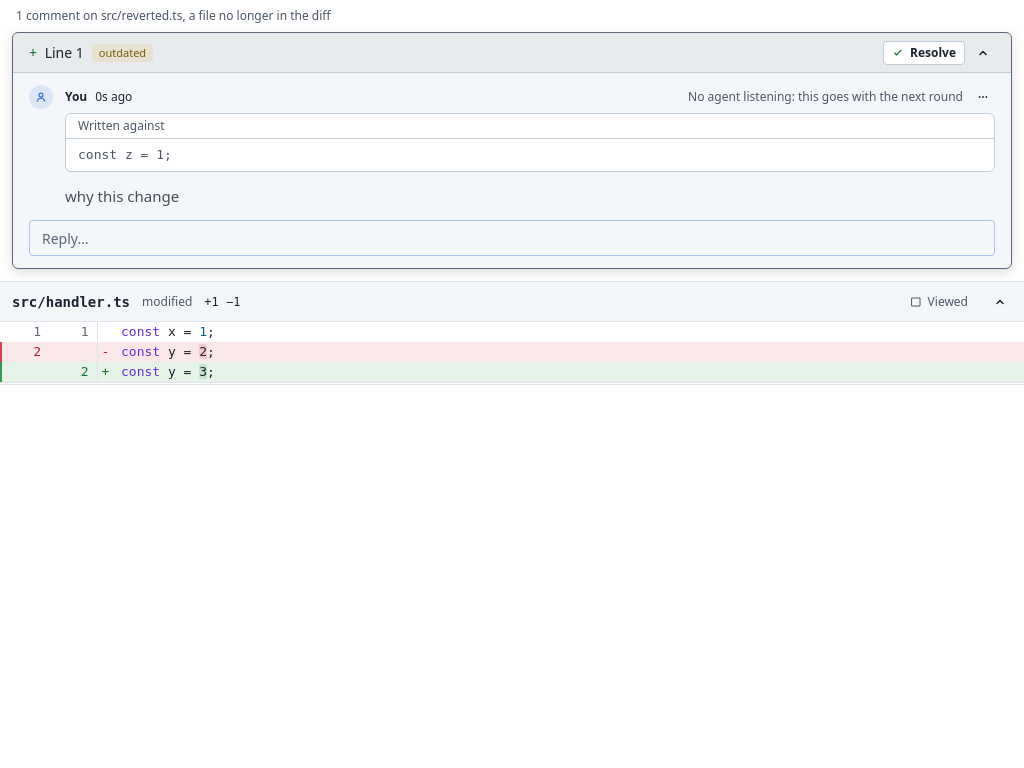
Test: a comment on a file the diff no longer has › can be deleted where it is drawn
The width and height of the screenshot is (1024, 768).
Click the button with test id "turn-menu".
click(983, 97)  # box [971, 85, 995, 109]
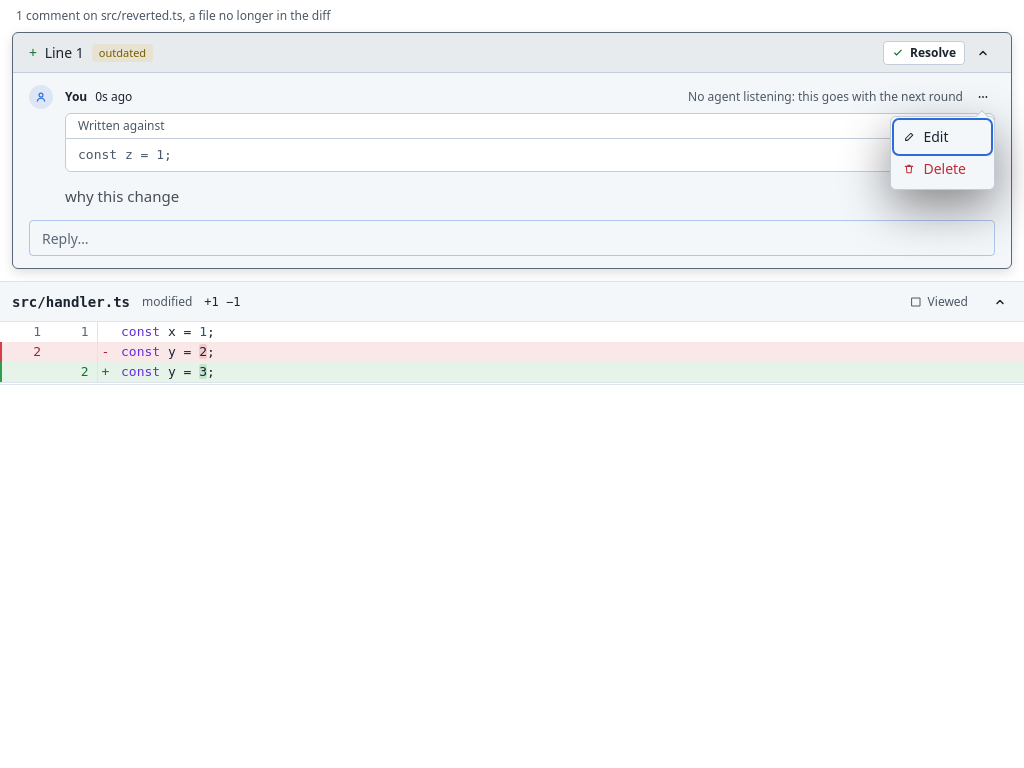
Click the button with test id "delete-turn".
click(943, 169)  # box [895, 153, 990, 185]
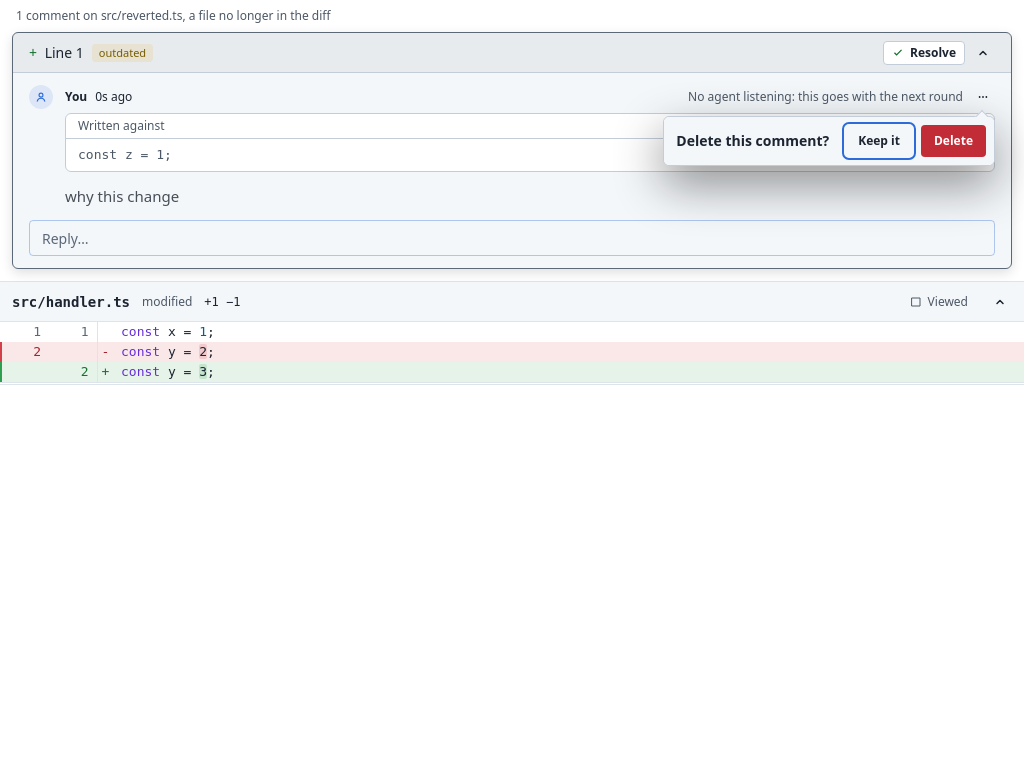
Click the button with test id "confirm-go-ahead".
click(954, 141)  # box [921, 125, 986, 157]
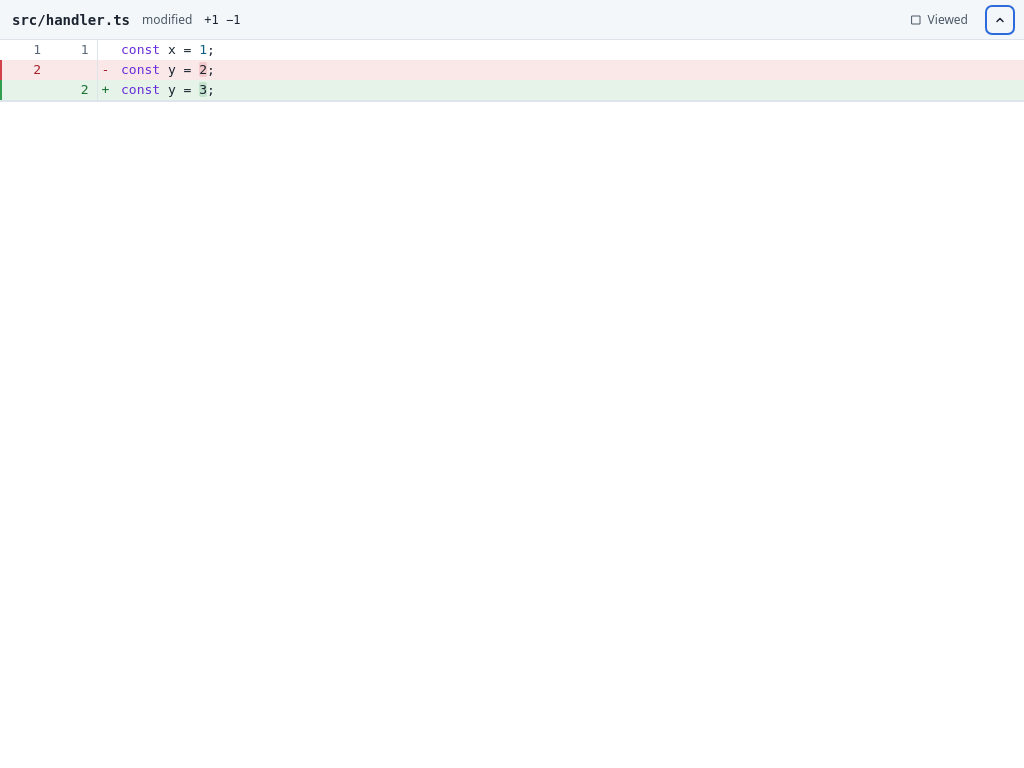
Expected: the element with test id "unplaced-threads" is gone
